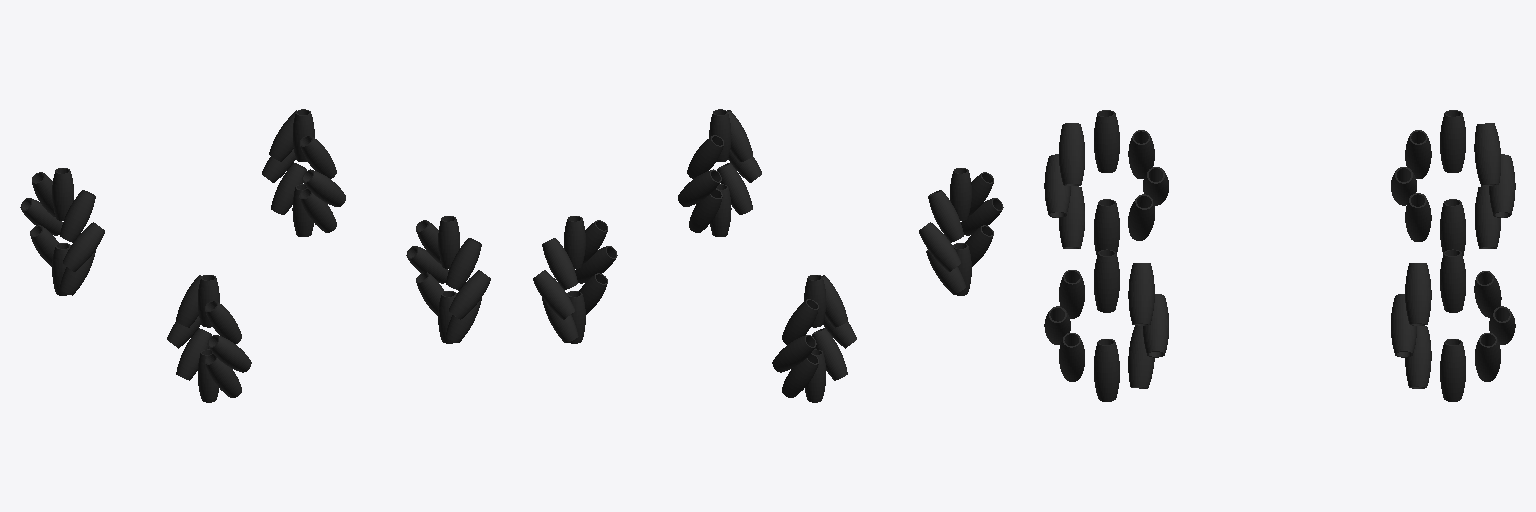
--- Render facts (derived) ---
3 views of the same robot in one strip: view 1: azimuth 30°, elevation 25°; view 2: azimuth 150°, elevation 25°; view 3: azimuth 270°, elevation 25° (orthographic).
Model bloodstone with 53 links and 52 joints (1 revolute, 41 continuous, 10 fixed), rooted at base_link, posed all joints at 0.
Links seen in each view (by area): view 1: front_left_roller_5, rear_right_roller_3, front_left_roller_4, rear_right_roller_4, front_right_roller_1, rear_left_roller_4, front_right_roller_4, rear_right_roller_2, front_left_roller_6, rear_left_roller_7, rear_left_roller_3, front_right_roller_5 (+19 smaller); view 2: rear_left_roller_1, front_right_roller_7, rear_left_roller_0, front_right_roller_0, front_left_roller_3, rear_right_roller_5, rear_left_roller_2, front_left_roller_0, front_right_roller_6, rear_right_roller_0, front_left_roller_7, rear_right_roller_1 (+18 smaller); view 3: front_right_roller_5, rear_right_roller_1, rear_left_roller_3, front_left_roller_7, front_right_roller_6, front_left_roller_6, rear_right_roller_2, rear_left_roller_2, rear_right_roller_6, front_right_roller_2, front_left_roller_2, rear_left_roller_6 (+20 smaller).
Boxes of the visible links, x1,y1,x2,y2 form: front_left_roller_5: (60,190,95,242); rear_right_roller_3: (446,238,481,290); front_left_roller_4: (63,222,104,271); rear_right_roller_4: (449,270,490,319); front_right_roller_1: (271,163,306,214); rear_left_roller_4: (207,335,251,372); front_right_roller_4: (302,169,345,206); rear_right_roller_2: (438,216,459,268); front_left_roller_6: (52,168,73,220); rear_left_roller_7: (176,328,211,380); rear_left_roller_3: (205,300,241,343); front_right_roller_5: (300,135,336,178); rear_left_roller_1: (928,190,963,242); front_right_roller_7: (542,238,577,289); rear_left_roller_0: (919,222,960,271); front_right_roller_0: (533,270,574,319); front_left_roller_3: (812,328,847,380); rear_right_roller_5: (717,163,752,214); rear_left_roller_2: (950,168,971,220); front_left_roller_0: (772,335,816,372); front_right_roller_6: (564,216,585,268); rear_right_roller_0: (678,169,721,206); front_left_roller_7: (782,299,818,344); rear_right_roller_1: (687,135,723,178); front_right_roller_5: (1405,263,1431,325); rear_right_roller_1: (1128,263,1154,325); rear_left_roller_3: (1059,123,1084,185); front_left_roller_7: (1474,123,1500,185); front_right_roller_6: (1440,249,1465,312); front_left_roller_6: (1440,110,1465,172); rear_right_roller_2: (1094,249,1119,312); rear_left_roller_2: (1094,110,1119,172); rear_right_roller_6: (1094,339,1119,401); front_right_roller_2: (1440,339,1465,401); front_left_roller_2: (1440,199,1465,255); rear_left_roller_6: (1094,199,1119,254).
Size in the robot's own frame: 0.2362 by 0.2875 by 0.0977 metres.
Meshes: 15 distinct files referenced, 32 mesh visuals loaded (1 binary STL); not drawn: 20 (reference not matched to a file when rendering).

URDF robot description (bloodstone):
<?xml version="1.0" ?><!-- =================================================================================== --><!-- |    This document was autogenerated by xacro from /workspaces/DevEnv/repos/grr_ros2_robot/install/grr_description/share/grr_description/urdf/robots/bloodstone.urdf.xacro | --><!-- |    EDITING THIS FILE BY HAND IS NOT RECOMMENDED                                 | --><!-- =================================================================================== --><robot name="bloodstone"><!-- Specify some standard inertial calculations https://en.wikipedia.org/wiki/List_of_moments_of_inertia --><!-- These make use of xacro's mathematical functionality --><material name="black"><color rgba="0.0 0.0 0.0 1.0"/></material><material name="blue"><color rgba="0.13725490196078433 0.43137254901960786 0.5882352941176471 1.0"/></material><material name="green"><color rgba="0.0 0.8 0.0 1.0"/></material><material name="grey"><color rgba="0.2 0.2 0.2 1.0"/></material><material name="yellow"><color rgba="1.0 0.8431372549019608 0.0 1"/></material><material name="orange"><color rgba="0.9529411764705882 0.5294117647058824 0.1843137254901961 1"/></material><material name="brown"><color rgba="0.8705882352941177 0.8117647058823529 0.7647058823529411 1.0"/></material><material name="red"><color rgba="0.8 0.0 0.0 1.0"/></material><material name="white"><color rgba="1.0 1.0 1.0 1.0"/></material><material name="silver"><color rgba="0.700 0.700 0.700 1.000"/></material><material name="zed2i_mat"><color rgba="0.25 0.25 0.25 0.99"/></material><ros2_control name="bloodstone" type="system"><hardware><plugin>grr_hardware/IsaacDriveHardware</plugin><param name="example_param_hw_start_duration_sec">3.0</param><param name="example_param_hw_stop_duration_sec">3.0</param></hardware><joint name="front_right_mecanum_joint"><command_interface name="velocity"><param name="min">-1</param><param name="max">1</param></command_interface><state_interface name="position"/><state_interface name="velocity"/></joint><joint name="rear_left_mecanum_joint"><command_interface name="velocity"><param name="min">-1</param><param name="max">1</param></command_interface><state_interface name="position"/><state_interface name="velocity"/></joint><joint name="front_left_mecanum_joint"><command_interface name="velocity"><param name="min">-1</param><param name="max">1</param></command_interface><state_interface name="position"/><state_interface name="velocity"/></joint><joint name="rear_right_mecanum_joint"><command_interface name="velocity"><param name="min">-1</param><param name="max">1</param></command_interface><state_interface name="position"/><state_interface name="velocity"/></joint></ros2_control><link name="base_link"/><link name="chassis_link"><inertial><origin rpy="0 0 0" xyz="0 0 -0.0675"/><mass value="2.45"/><inertia ixx="0.025954687500000004" ixy="0.0" ixz="0.0" iyy="0.0103359375" iyz="0.0" izz="0.028848750000000003"/></inertial><visual><origin rpy="0 0 0" xyz="0 0 0"/><geometry><mesh filename="package://grr_description/meshes/slim_drivebase.stl" scale="0.001 0.001 0.001"/></geometry><material name="blue"/></visual><collision><origin rpy="0 0 0" xyz="0 0 0"/><geometry><box size="0.18 0.33 0.0675"/></geometry></collision></link><gazebo reference="chassis"><material>Gazebo/Blue</material></gazebo><joint name="chassis_joint" type="fixed"><parent link="base_link"/><child link="chassis_link"/><origin xyz="0 0 0"/></joint><link name="front_right_mecanum_link"><inertial><origin rpy="0 1.5707963267948966 0" xyz="0 0 0"/><mass value="1.1360000000000001"/><inertia ixx="0.00042284766390000004" ixy="0.0" ixz="0.0" iyy="0.00042284766390000004" iyz="0.0" izz="0.0005117113278"/></inertial><visual><origin rpy="0 0 0" xyz="0 0 0"/><geometry><mesh filename="package://grr_description/meshes/mecanum_wheel_1.stl" scale="0.001 0.001 0.001"/></geometry><material name="orange"/></visual><collision><origin rpy="0 0 0" xyz="0 0 0"/><geometry><cylinder length="0.042" radius="0.030015"/></geometry></collision></link><joint name="front_right_mecanum_joint" type="continuous"><origin rpy="0 1.5707963267948966 0" xyz="0.10075 0.10568 0"/><parent link="chassis_link"/><child link="front_right_mecanum_link"/><axis xyz="0.0 0.0 -1.0"/></joint><link name="front_right_roller_0"><visual><origin rpy="0 0 0" xyz="0 0 0"/><geometry><mesh filename="package://grr_description/meshes/mecanum_roller.stl" scale="0.001 0.001 0.001"/></geometry><material name="grey"/></visual><!-- <collision>
        <origin xyz="0 0 0" rpy="0 0 0"/>
        <geometry>
          <sphere radius="${roller_middle_radius}"/>
        </geometry>
      </collision>
      <collision>
        <origin xyz="0 0 ${roller_length/5}" rpy="0 0 0"/>
        <geometry>
          <sphere radius="${roller_second_radius}"/>
        </geometry>
      </collision>
      <collision>
        <origin xyz="0 0 -${roller_length/5}" rpy="0 0 0"/>
        <geometry>
          <sphere radius="${roller_second_radius}"/>
        </geometry>
      </collision>
      <collision>
        <origin xyz="0 0 ${2 * roller_length/5}" rpy="0 0 0"/>
        <geometry>
          <sphere radius="${roller_third_radius}"/>
        </geometry>
      </collision>
      <collision>
        <origin xyz="0 0 -${2 * roller_length/5}" rpy="0 0 0"/>
        <geometry>
          <sphere radius="${roller_third_radius}"/>
        </geometry>
      </collision> --><collision><origin rpy="0 0 0" xyz="0 0 0"/><geometry><mesh filename="package://grr_description/meshes/mecanum_roller.stl" scale="0.001 0.001 0.001"/></geometry></collision><inertial><origin rpy="0 0 0" xyz="0 0 0"/><mass value="0.07"/><inertia ixx="9.426025000000001e-06" ixy="0.0" ixz="0.0" iyy="9.426025000000001e-06" iyz="0.0" izz="1.9166000000000004e-06"/></inertial></link><joint name="front_right_roller_0_joint" type="continuous"><origin rpy="0.0 0.7853981633974483 0" xyz="0.0 0.030015 0"/><parent link="front_right_mecanum_link"/><child link="front_right_roller_0"/><axis xyz="0.0 0.0 1.0"/></joint><link name="front_right_roller_1"><visual><origin rpy="0 0 0" xyz="0 0 0"/><geometry><mesh filename="package://grr_description/meshes/mecanum_roller.stl" scale="0.001 0.001 0.001"/></geometry><material name="grey"/></visual><!-- <collision>
        <origin xyz="0 0 0" rpy="0 0 0"/>
        <geometry>
          <sphere radius="${roller_middle_radius}"/>
        </geometry>
      </collision>
      <collision>
        <origin xyz="0 0 ${roller_length/5}" rpy="0 0 0"/>
        <geometry>
          <sphere radius="${roller_second_radius}"/>
        </geometry>
      </collision>
      <collision>
        <origin xyz="0 0 -${roller_length/5}" rpy="0 0 0"/>
        <geometry>
          <sphere radius="${roller_second_radius}"/>
        </geometry>
      </collision>
      <collision>
        <origin xyz="0 0 ${2 * roller_length/5}" rpy="0 0 0"/>
        <geometry>
          <sphere radius="${roller_third_radius}"/>
        </geometry>
      </collision>
      <collision>
        <origin xyz="0 0 -${2 * roller_length/5}" rpy="0 0 0"/>
        <geometry>
          <sphere radius="${roller_third_radius}"/>
        </geometry>
      </collision> --><collision><origin rpy="0 0 0" xyz="0 0 0"/><geometry><mesh filename="package://grr_description/meshes/mecanum_roller.stl" scale="0.001 0.001 0.001"/></geometry></collision><inertial><origin rpy="0 0 0" xyz="0 0 0"/><mass value="0.07"/><inertia ixx="9.426025000000001e-06" ixy="0.0" ixz="0.0" iyy="9.426025000000001e-06" iyz="0.0" izz="1.9166000000000004e-06"/></inertial></link><joint name="front_right_roller_1_joint" type="continuous"><origin rpy="0.5553603672697958 0.5553603672697958 0" xyz="0.02122381003731422 0.021223810037314224 0"/><parent link="front_right_mecanum_link"/><child link="front_right_roller_1"/><axis xyz="0.0 0.0 1.0"/></joint><link name="front_right_roller_2"><visual><origin rpy="0 0 0" xyz="0 0 0"/><geometry><mesh filename="package://grr_description/meshes/mecanum_roller.stl" scale="0.001 0.001 0.001"/></geometry><material name="grey"/></visual><!-- <collision>
        <origin xyz="0 0 0" rpy="0 0 0"/>
        <geometry>
          <sphere radius="${roller_middle_radius}"/>
        </geometry>
      </collision>
      <collision>
        <origin xyz="0 0 ${roller_length/5}" rpy="0 0 0"/>
        <geometry>
          <sphere radius="${roller_second_radius}"/>
        </geometry>
      </collision>
      <collision>
        <origin xyz="0 0 -${roller_length/5}" rpy="0 0 0"/>
        <geometry>
          <sphere radius="${roller_second_radius}"/>
        </geometry>
      </collision>
      <collision>
        <origin xyz="0 0 ${2 * roller_length/5}" rpy="0 0 0"/>
        <geometry>
          <sphere radius="${roller_third_radius}"/>
        </geometry>
      </collision>
      <collision>
        <origin xyz="0 0 -${2 * roller_length/5}" rpy="0 0 0"/>
        <geometry>
          <sphere radius="${roller_third_radius}"/>
        </geometry>
      </collision> --><collision><origin rpy="0 0 0" xyz="0 0 0"/><geometry><mesh filename="package://grr_description/meshes/mecanum_roller.stl" scale="0.001 0.001 0.001"/></geometry></collision><inertial><origin rpy="0 0 0" xyz="0 0 0"/><mass value="0.07"/><inertia ixx="9.426025000000001e-06" ixy="0.0" ixz="0.0" iyy="9.426025000000001e-06" iyz="0.0" izz="1.9166000000000004e-06"/></inertial></link><joint name="front_right_roller_2_joint" type="continuous"><origin rpy="0.7853981633974483 4.8091767343044744e-17 0" xyz="0.030015 1.8378886838203904e-18 0"/><parent link="front_right_mecanum_link"/><child link="front_right_roller_2"/><axis xyz="0.0 0.0 1.0"/></joint><link name="front_right_roller_3"><visual><origin rpy="0 0 0" xyz="0 0 0"/><geometry><mesh filename="package://grr_description/meshes/mecanum_roller.stl" scale="0.001 0.001 0.001"/></geometry><material name="grey"/></visual><!-- <collision>
        <origin xyz="0 0 0" rpy="0 0 0"/>
        <geometry>
          <sphere radius="${roller_middle_radius}"/>
        </geometry>
      </collision>
      <collision>
        <origin xyz="0 0 ${roller_length/5}" rpy="0 0 0"/>
        <geometry>
          <sphere radius="${roller_second_radius}"/>
        </geometry>
      </collision>
      <collision>
        <origin xyz="0 0 -${roller_length/5}" rpy="0 0 0"/>
        <geometry>
          <sphere radius="${roller_second_radius}"/>
        </geometry>
      </collision>
      <collision>
        <origin xyz="0 0 ${2 * roller_length/5}" rpy="0 0 0"/>
        <geometry>
          <sphere radius="${roller_third_radius}"/>
        </geometry>
      </collision>
      <collision>
        <origin xyz="0 0 -${2 * roller_length/5}" rpy="0 0 0"/>
        <geometry>
          <sphere radius="${roller_third_radius}"/>
        </geometry>
      </collision> --><collision><origin rpy="0 0 0" xyz="0 0 0"/><geometry><mesh filename="package://grr_description/meshes/mecanum_roller.stl" scale="0.001 0.001 0.001"/></geometry></collision><inertial><origin rpy="0 0 0" xyz="0 0 0"/><mass value="0.07"/><inertia ixx="9.426025000000001e-06" ixy="0.0" ixz="0.0" iyy="9.426025000000001e-06" iyz="0.0" izz="1.9166000000000004e-06"/></inertial></link><joint name="front_right_roller_3_joint" type="continuous"><origin rpy="0.5553603672697958 -0.5553603672697958 0" xyz="0.021223810037314224 -0.02122381003731422 0"/><parent link="front_right_mecanum_link"/><child link="front_right_roller_3"/><axis xyz="0.0 0.0 1.0"/></joint><link name="front_right_roller_4"><visual><origin rpy="0 0 0" xyz="0 0 0"/><geometry><mesh filename="package://grr_description/meshes/mecanum_roller.stl" scale="0.001 0.001 0.001"/></geometry><material name="grey"/></visual><!-- <collision>
        <origin xyz="0 0 0" rpy="0 0 0"/>
        <geometry>
          <sphere radius="${roller_middle_radius}"/>
        </geometry>
      </collision>
      <collision>
        <origin xyz="0 0 ${roller_length/5}" rpy="0 0 0"/>
        <geometry>
          <sphere radius="${roller_second_radius}"/>
        </geometry>
      </collision>
      <collision>
        <origin xyz="0 0 -${roller_length/5}" rpy="0 0 0"/>
        <geometry>
          <sphere radius="${roller_second_radius}"/>
        </geometry>
      </collision>
      <collision>
        <origin xyz="0 0 ${2 * roller_length/5}" rpy="0 0 0"/>
        <geometry>
          <sphere radius="${roller_third_radius}"/>
        </geometry>
      </collision>
      <collision>
        <origin xyz="0 0 -${2 * roller_length/5}" rpy="0 0 0"/>
        <geometry>
          <sphere radius="${roller_third_radius}"/>
        </geometry>
      </collision> --><collision><origin rpy="0 0 0" xyz="0 0 0"/><geometry><mesh filename="package://grr_description/meshes/mecanum_roller.stl" scale="0.001 0.001 0.001"/></geometry></collision><inertial><origin rpy="0 0 0" xyz="0 0 0"/><mass value="0.07"/><inertia ixx="9.426025000000001e-06" ixy="0.0" ixz="0.0" iyy="9.426025000000001e-06" iyz="0.0" izz="1.9166000000000004e-06"/></inertial></link><joint name="front_right_roller_4_joint" type="continuous"><origin rpy="9.618353468608949e-17 -0.7853981633974483 0" xyz="3.675777367640781e-18 -0.030015 0"/><parent link="front_right_mecanum_link"/><child link="front_right_roller_4"/><axis xyz="0.0 0.0 1.0"/></joint><link name="front_right_roller_5"><visual><origin rpy="0 0 0" xyz="0 0 0"/><geometry><mesh filename="package://grr_description/meshes/mecanum_roller.stl" scale="0.001 0.001 0.001"/></geometry><material name="grey"/></visual><!-- <collision>
        <origin xyz="0 0 0" rpy="0 0 0"/>
        <geometry>
          <sphere radius="${roller_middle_radius}"/>
        </geometry>
      </collision>
      <collision>
        <origin xyz="0 0 ${roller_length/5}" rpy="0 0 0"/>
        <geometry>
          <sphere radius="${roller_second_radius}"/>
        </geometry>
      </collision>
      <collision>
        <origin xyz="0 0 -${roller_length/5}" rpy="0 0 0"/>
        <geometry>
          <sphere radius="${roller_second_radius}"/>
        </geometry>
      </collision>
      <collision>
        <origin xyz="0 0 ${2 * roller_length/5}" rpy="0 0 0"/>
        <geometry>
          <sphere radius="${roller_third_radius}"/>
        </geometry>
      </collision>
      <collision>
        <origin xyz="0 0 -${2 * roller_length/5}" rpy="0 0 0"/>
        <geometry>
          <sphere radius="${roller_third_radius}"/>
        </geometry>
      </collision> --><collision><origin rpy="0 0 0" xyz="0 0 0"/><geometry><mesh filename="package://grr_description/meshes/mecanum_roller.stl" scale="0.001 0.001 0.001"/></geometry></collision><inertial><origin rpy="0 0 0" xyz="0 0 0"/><mass value="0.07"/><inertia ixx="9.426025000000001e-06" ixy="0.0" ixz="0.0" iyy="9.426025000000001e-06" iyz="0.0" izz="1.9166000000000004e-06"/></inertial></link><joint name="front_right_roller_5_joint" type="continuous"><origin rpy="-0.5553603672697958 -0.5553603672697959 0" xyz="-0.02122381003731422 -0.021223810037314227 0"/><parent link="front_right_mecanum_link"/><child link="front_right_roller_5"/><axis xyz="0.0 0.0 1.0"/></joint><link name="front_right_roller_6"><visual><origin rpy="0 0 0" xyz="0 0 0"/><geometry><mesh filename="package://grr_description/meshes/mecanum_roller.stl" scale="0.001 0.001 0.001"/></geometry><material name="grey"/></visual><!-- <collision>
        <origin xyz="0 0 0" rpy="0 0 0"/>
        <geometry>
          <sphere radius="${roller_middle_radius}"/>
        </geometry>
      </collision>
      <collision>
        <origin xyz="0 0 ${roller_length/5}" rpy="0 0 0"/>
        <geometry>
          <sphere radius="${roller_second_radius}"/>
        </geometry>
      </collision>
      <collision>
        <origin xyz="0 0 -${roller_length/5}" rpy="0 0 0"/>
        <geometry>
          <sphere radius="${roller_second_radius}"/>
        </geometry>
      </collision>
      <collision>
        <origin xyz="0 0 ${2 * roller_length/5}" rpy="0 0 0"/>
        <geometry>
          <sphere radius="${roller_third_radius}"/>
        </geometry>
      </collision>
      <collision>
        <origin xyz="0 0 -${2 * roller_length/5}" rpy="0 0 0"/>
        <geometry>
          <sphere radius="${roller_third_radius}"/>
        </geometry>
      </collision> --><collision><origin rpy="0 0 0" xyz="0 0 0"/><geometry><mesh filename="package://grr_description/meshes/mecanum_roller.stl" scale="0.001 0.001 0.001"/></geometry></collision><inertial><origin rpy="0 0 0" xyz="0 0 0"/><mass value="0.07"/><inertia ixx="9.426025000000001e-06" ixy="0.0" ixz="0.0" iyy="9.426025000000001e-06" iyz="0.0" izz="1.9166000000000004e-06"/></inertial></link><joint name="front_right_roller_6_joint" type="continuous"><origin rpy="-0.7853981633974483 -1.4427530202913423e-16 0" xyz="-0.030015 -5.513666051461171e-18 0"/><parent link="front_right_mecanum_link"/><child link="front_right_roller_6"/><axis xyz="0.0 0.0 1.0"/></joint><link name="front_right_roller_7"><visual><origin rpy="0 0 0" xyz="0 0 0"/><geometry><mesh filename="package://grr_description/meshes/mecanum_roller.stl" scale="0.001 0.001 0.001"/></geometry><material name="grey"/></visual><!-- <collision>
        <origin xyz="0 0 0" rpy="0 0 0"/>
        <geometry>
          <sphere radius="${roller_middle_radius}"/>
        </geometry>
      </collision>
      <collision>
        <origin xyz="0 0 ${roller_length/5}" rpy="0 0 0"/>
        <geometry>
          <sphere radius="${roller_second_radius}"/>
        </geometry>
      </collision>
      <collision>
        <origin xyz="0 0 -${roller_length/5}" rpy="0 0 0"/>
        <geometry>
          <sphere radius="${roller_second_radius}"/>
        </geometry>
      </collision>
      <collision>
        <origin xyz="0 0 ${2 * roller_length/5}" rpy="0 0 0"/>
        <geometry>
          <sphere radius="${roller_third_radius}"/>
        </geometry>
      </collision>
      <collision>
        <origin xyz="0 0 -${2 * roller_length/5}" rpy="0 0 0"/>
        <geometry>
          <sphere radius="${roller_third_radius}"/>
        </geometry>
      </collision> --><collision><origin rpy="0 0 0" xyz="0 0 0"/><geometry><mesh filename="package://grr_description/meshes/mecanum_roller.stl" scale="0.001 0.001 0.001"/></geometry></collision><inertial><origin rpy="0 0 0" xyz="0 0 0"/><mass value="0.07"/><inertia ixx="9.426025000000001e-06" ixy="0.0" ixz="0.0" iyy="9.426025000000001e-06" iyz="0.0" izz="1.9166000000000004e-06"/></inertial></link><joint name="front_right_roller_7_joint" type="continuous"><origin rpy="-0.5234033886657797 0.6093783076190201 0.09416051314509408" xyz="-0.021223810037314227 0.02122381003731422 0"/><parent link="front_right_mecanum_link"/><child link="front_right_roller_7"/><axis xyz="0.0 0.0 1.0"/></joint><link name="rear_left_mecanum_link"><inertial><origin rpy="0 1.5707963267948966 0" xyz="0 0 0"/><mass value="1.1360000000000001"/><inertia ixx="0.00042284766390000004" ixy="0.0" ixz="0.0" iyy="0.00042284766390000004" iyz="0.0" izz="0.0005117113278"/></inertial><visual><origin rpy="0 0 0" xyz="0 0 0"/><geometry><mesh filename="package://grr_description/meshes/mecanum_wheel_1.stl" scale="0.001 0.001 0.001"/></geometry><material name="orange"/></visual><collision><origin rpy="0 0 0" xyz="0 0 0"/><geometry><cylinder length="0.042" radius="0.030015"/></geometry></collision></link><joint name="rear_left_mecanum_joint" type="continuous"><origin rpy="0 -1.5707963267948966 0" xyz="-0.10075 -0.10568 0"/><parent link="chassis_link"/><child link="rear_left_mecanum_link"/><axis xyz="0.0 0.0 1.0"/></joint><link name="rear_left_roller_0"><visual><origin rpy="0 0 0" xyz="0 0 0"/><geometry><mesh filename="package://grr_description/meshes/mecanum_roller.stl" scale="0.001 0.001 0.001"/></geometry><material name="grey"/></visual><!-- <collision>
        <origin xyz="0 0 0" rpy="0 0 0"/>
        <geometry>
          <sphere radius="${roller_middle_radius}"/>
        </geometry>
      </collision>
      <collision>
        <origin xyz="0 0 ${roller_length/5}" rpy="0 0 0"/>
        <geometry>
          <sphere radius="${roller_second_radius}"/>
        </geometry>
      </collision>
      <collision>
        <origin xyz="0 0 -${roller_length/5}" rpy="0 0 0"/>
        <geometry>
          <sphere radius="${roller_second_radius}"/>
        </geometry>
      </collision>
      <collision>
        <origin xyz="0 0 ${2 * roller_length/5}" rpy="0 0 0"/>
        <geometry>
          <sphere radius="${roller_third_radius}"/>
        </geometry>
      </collision>
      <collision>
        <origin xyz="0 0 -${2 * roller_length/5}" rpy="0 0 0"/>
        <geometry>
          <sphere radius="${roller_third_radius}"/>
        </geometry>
      </collision> --><collision><origin rpy="0 0 0" xyz="0 0 0"/><geometry><mesh filename="package://grr_description/meshes/mecanum_roller.stl" scale="0.001 0.001 0.001"/></geometry></collision><inertial><origin rpy="0 0 0" xyz="0 0 0"/><mass value="0.07"/><inertia ixx="9.426025000000001e-06" ixy="0.0" ixz="0.0" iyy="9.426025000000001e-06" iyz="0.0" izz="1.9166000000000004e-06"/></inertial></link><joint name="rear_left_roller_0_joint" type="continuous"><origin rpy="0.0 0.7853981633974483 0" xyz="0.0 0.030015 0"/><parent link="rear_left_mecanum_link"/><child link="rear_left_roller_0"/><axis xyz="0.0 0.0 1.0"/></joint><link name="rear_left_roller_1"><visual><origin rpy="0 0 0" xyz="0 0 0"/><geometry><mesh filename="package://grr_description/meshes/mecanum_roller.stl" scale="0.001 0.001 0.001"/></geometry><material name="grey"/></visual><!-- <collision>
        <origin xyz="0 0 0" rpy="0 0 0"/>
        <geometry>
          <sphere radius="${roller_middle_radius}"/>
        </geometry>
      </collision>
      <collision>
        <origin xyz="0 0 ${roller_length/5}" rpy="0 0 0"/>
        <geometry>
          <sphere radius="${roller_second_radius}"/>
        </geometry>
      </collision>
      <collision>
        <origin xyz="0 0 -${roller_length/5}" rpy="0 0 0"/>
        <geometry>
          <sphere radius="${roller_second_radius}"/>
        </geometry>
      </collision>
      <collision>
        <origin xyz="0 0 ${2 * roller_length/5}" rpy="0 0 0"/>
        <geometry>
          <sphere radius="${roller_third_radius}"/>
        </geometry>
      </collision>
      <collision>
        <origin xyz="0 0 -${2 * roller_length/5}" rpy="0 0 0"/>
        <geometry>
          <sphere radius="${roller_third_radius}"/>
        </geometry>
      </collision> --><collision><origin rpy="0 0 0" xyz="0 0 0"/><geometry><mesh filename="package://grr_description/meshes/mecanum_roller.stl" scale="0.001 0.001 0.001"/></geometry></collision><inertial><origin rpy="0 0 0" xyz="0 0 0"/><mass value="0.07"/><inertia ixx="9.426025000000001e-06" ixy="0.0" ixz="0.0" iyy="9.426025000000001e-06" iyz="0.0" izz="1.9166000000000004e-06"/></inertial></link><joint name="rear_left_roller_1_joint" type="continuous"><origin rpy="0.5553603672697958 0.5553603672697958 0" xyz="0.02122381003731422 0.021223810037314224 0"/><parent link="rear_left_mecanum_link"/><child link="rear_left_roller_1"/><axis xyz="0.0 0.0 1.0"/></joint><link name="rear_left_roller_2"><visual><origin rpy="0 0 0" xyz="0 0 0"/><geometry><mesh filename="package://grr_description/meshes/mecanum_roller.stl" scale="0.001 0.001 0.001"/></geometry><material name="grey"/></visual><!-- <collision>
        <origin xyz="0 0 0" rpy="0 0 0"/>
        <geometry>
          <sphere radius="${roller_middle_radius}"/>
        </geometry>
      </collision>
      <collision>
        <origin xyz="0 0 ${roller_length/5}" rpy="0 0 0"/>
        <geometry>
          <sphere radius="${roller_second_radius}"/>
        </geometry>
      </collision>
      <collision>
        <origin xyz="0 0 -${roller_length/5}" rpy="0 0 0"/>
        <geometry>
          <sphere radius="${roller_second_radius}"/>
        </geometry>
      </collision>
      <collision>
        <origin xyz="0 0 ${2 * roller_length/5}" rpy="0 0 0"/>
        <geometry>
          <sphere radius="${roller_third_radius}"/>
        </geometry>
      </collision>
      <collision>
        <origin xyz="0 0 -${2 * roller_length/5}" rpy="0 0 0"/>
        <geometry>
          <sphere radius="${roller_third_radius}"/>
        </geometry>
      </collision> --><collision><origin rpy="0 0 0" xyz="0 0 0"/><geometry><mesh filename="package://grr_description/meshes/mecanum_roller.stl" scale="0.001 0.001 0.001"/></geometry></collision><inertial><origin rpy="0 0 0" xyz="0 0 0"/><mass value="0.07"/><inertia ixx="9.426025000000001e-06" ixy="0.0" ixz="0.0" iyy="9.426025000000001e-06" iyz="0.0" izz="1.9166000000000004e-06"/></inertial></link><joint name="rear_left_roller_2_joint" type="continuous"><origin rpy="0.7853981633974483 4.8091767343044744e-17 0" xyz="0.030015 1.8378886838203904e-18 0"/><parent link="rear_left_mecanum_link"/><child link="rear_left_roller_2"/><axis xyz="0.0 0.0 1.0"/></joint><link name="rear_left_roller_3"><visual><origin rpy="0 0 0" xyz="0 0 0"/><geometry><mesh filename="package://grr_description/meshes/mecanum_roller.stl" scale="0.001 0.001 0.001"/></geometry><material name="grey"/></visual><!-- <collision>
        <origin xyz="0 0 0" rpy="0 0 0"/>
        <geometry>
          <sphere radius="${roller_middle_radius}"/>
        </geometry>
      </collision>
      <collision>
        <origin xyz="0 0 ${roller_length/5}" rpy="0 0 0"/>
        <geometry>
          <sphere radius="${roller_second_radius}"/>
        </geometry>
      </collision>
      <collision>
        <origin xyz="0 0 -${roller_length/5}" rpy="0 0 0"/>
        <geometry>
          <sphere radius="${roller_second_radius}"/>
        </geometry>
      </collision>
      <collision>
        <origin xyz="0 0 ${2 * roller_length/5}" rpy="0 0 0"/>
        <geometry>
          <sphere radius="${roller_third_radius}"/>
        </geometry>
      </collision>
      <collision>
        <origin xyz="0 0 -${2 * roller_length/5}" rpy="0 0 0"/>
        <geometry>
          <sphere radius="${roller_third_radius}"/>
        </geometry>
      </collision> --><collision><origin rpy="0 0 0" xyz="0 0 0"/><geometry><mesh filename="package://grr_description/meshes/mecanum_roller.stl" scale="0.001 0.001 0.001"/></geometry></collision><inertial><origin rpy="0 0 0" xyz="0 0 0"/><mass value="0.07"/><inertia ixx="9.426025000000001e-06" ixy="0.0" ixz="0.0" iyy="9.426025000000001e-06" iyz="0.0" izz="1.9166000000000004e-06"/></inertial></link><joint name="rear_left_roller_3_joint" type="continuous"><origin rpy="0.5553603672697958 -0.5553603672697958 0" xyz="0.021223810037314224 -0.02122381003731422 0"/><parent link="rear_left_mecanum_link"/><child link="rear_left_roller_3"/><axis xyz="0.0 0.0 1.0"/></joint><link name="rear_left_roller_4"><visual><origin rpy="0 0 0" xyz="0 0 0"/><geometry><mesh filename="package://grr_description/meshes/mecanum_roller.stl" scale="0.001 0.001 0.001"/></geometry><material name="grey"/></visual><!-- <collision>
        <origin xyz="0 0 0" rpy="0 0 0"/>
        <geometry>
          <sphere radius="${roller_middle_radius}"/>
        </geometry>
      </collision>
      <collision>
        <origin xyz="0 0 ${roller_length/5}" rpy="0 0 0"/>
        <geometry>
          <sphere radius="${roller_second_radius}"/>
        </geometry>
      </collision>
      <collision>
        <origin xyz="0 0 -${roller_length/5}" rpy="0 0 0"/>
        <geometry>
          <sphere radius="${roller_second_radius}"/>
        </geometry>
      </collision>
      <collision>
        <origin xyz="0 0 ${2 * roller_length/5}" rpy="0 0 0"/>
        <geometry>
          <sphere radius="${roller_third_radius}"/>
        </geometry>
      </collision>
      <collision>
        <origin xyz="0 0 -${2 * roller_length/5}" rpy="0 0 0"/>
        <geometry>
          <sphere radius="${roller_third_radius}"/>
        </geometry>
      </collision> --><collision><origin rpy="0 0 0" xyz="0 0 0"/><geometry><mesh filename="package://grr_description/meshes/mecanum_roller.stl" scale="0.001 0.001 0.001"/></geometry></collision><inertial><origin rpy="0 0 0" xyz="0 0 0"/><mass value="0.07"/><inertia ixx="9.426025000000001e-06" ixy="0.0" ixz="0.0" iyy="9.426025000000001e-06" iyz="0.0" izz="1.9166000000000004e-06"/></inertial></link><joint name="rear_left_roller_4_joint" type="continuous"><origin rpy="9.618353468608949e-17 -0.7853981633974483 0" xyz="3.675777367640781e-18 -0.030015 0"/><parent link="rear_left_mecanum_link"/><child link="rear_left_roller_4"/><axis xyz="0.0 0.0 1.0"/></joint><link name="rear_left_roller_5"><visual><origin rpy="0 0 0" xyz="0 0 0"/><geometry><mesh filename="package://grr_description/meshes/mecanum_roller.stl" scale="0.001 0.001 0.001"/></geometry><material name="grey"/></visual><!-- <collision>
        <origin xyz="0 0 0" rpy="0 0 0"/>
        <geometry>
          <sphere radius="${roller_middle_radius}"/>
        </geometry>
      </collision>
      <collision>
        <origin xyz="0 0 ${roller_length/5}" rpy="0 0 0"/>
        <geometry>
          <sphere radius="${roller_second_radius}"/>
        </geometry>
      </collision>
      <collision>
        <origin xyz="0 0 -${roller_length/5}" rpy="0 0 0"/>
        <geometry>
          <sphere radius="${roller_second_radius}"/>
        </geometry>
      </collision>
      <collision>
        <origin xyz="0 0 ${2 * roller_length/5}" rpy="0 0 0"/>
        <geometry>
          <sphere radius="${roller_third_radius}"/>
        </geometry>
      </collision>
      <collision>
        <origin xyz="0 0 -${2 * roller_length/5}" rpy="0 0 0"/>
        <geometry>
          <sphere radius="${roller_third_radius}"/>
        </geometry>
      </collision> --><collision><origin rpy="0 0 0" xyz="0 0 0"/><geometry><mesh filename="package://grr_description/meshes/mecanum_roller.stl" scale="0.001 0.001 0.001"/></geometry></collision><inertial><origin rpy="0 0 0" xyz="0 0 0"/><mass value="0.07"/><inertia ixx="9.426025000000001e-06" ixy="0.0" ixz="0.0" iyy="9.426025000000001e-06" iyz="0.0" izz="1.9166000000000004e-06"/></inertial></link><joint name="rear_left_roller_5_joint" type="continuous"><origin rpy="-0.5553603672697958 -0.5553603672697959 0" xyz="-0.02122381003731422 -0.021223810037314227 0"/><parent link="rear_left_mecanum_link"/><child link="rear_left_roller_5"/><axis xyz="0.0 0.0 1.0"/></joint><link name="rear_left_roller_6"><visual><origin rpy="0 0 0" xyz="0 0 0"/><geometry><mesh filename="package://grr_description/meshes/mecanum_roller.stl" scale="0.001 0.001 0.001"/></geometry><material name="grey"/></visual><!-- <collision>
        <origin xyz="0 0 0" rpy="0 0 0"/>
        <geometry>
          <sphere radius="${roller_middle_radius}"/>
        </geometry>
      </collision>
      <collision>
        <origin xyz="0 0 ${roller_length/5}" rpy="0 0 0"/>
        <geometry>
          <sphere radius="${roller_second_radius}"/>
        </geometry>
      </collision>
      <collision>
        <origin xyz="0 0 -${roller_length/5}" rpy="0 0 0"/>
        <geometry>
          <sphere radius="${roller_second_radius}"/>
        </geometry>
      </collision>
      <collision>
        <origin xyz="0 0 ${2 * roller_length/5}" rpy="0 0 0"/>
        <geometry>
          <sphere radius="${roller_third_radius}"/>
        </geometry>
      </collision>
      <collision>
        <origin xyz="0 0 -${2 * roller_length/5}" rpy="0 0 0"/>
        <geometry>
          <sphere radius="${roller_third_radius}"/>
        </geometry>
      </collision> --><collision><origin rpy="0 0 0" xyz="0 0 0"/><geometry><mesh filename="package://grr_description/meshes/mecanum_roller.stl" scale="0.001 0.001 0.001"/></geometry></collision><inertial><origin rpy="0 0 0" xyz="0 0 0"/><mass value="0.07"/><inertia ixx="9.426025000000001e-06" ixy="0.0" ixz="0.0" iyy="9.426025000000001e-06" iyz="0.0" izz="1.9166000000000004e-06"/></inertial></link><joint name="rear_left_roller_6_joint" type="continuous"><origin rpy="-0.7853981633974483 -1.4427530202913423e-16 0" xyz="-0.030015 -5.513666051461171e-18 0"/><parent link="rear_left_mecanum_link"/><child link="rear_left_roller_6"/><axis xyz="0.0 0.0 1.0"/></joint><link name="rear_left_roller_7"><visual><origin rpy="0 0 0" xyz="0 0 0"/><geometry><mesh filename="package://grr_description/meshes/mecanum_roller.stl" scale="0.001 0.001 0.001"/></geometry><material name="grey"/></visual><!-- <collision>
        <origin xyz="0 0 0" rpy="0 0 0"/>
        <geometry>
          <sphere radius="${roller_middle_radius}"/>
        </geometry>
      </collision>
      <collision>
        <origin xyz="0 0 ${roller_length/5}" rpy="0 0 0"/>
        <geometry>
          <sphere radius="${roller_second_radius}"/>
        </geometry>
      </collision>
      <collision>
        <origin xyz="0 0 -${roller_length/5}" rpy="0 0 0"/>
        <geometry>
          <sphere radius="${roller_second_radius}"/>
        </geometry>
      </collision>
      <collision>
        <origin xyz="0 0 ${2 * roller_length/5}" rpy="0 0 0"/>
        <geometry>
          <sphere radius="${roller_third_radius}"/>
        </geometry>
      </collision>
      <collision>
        <origin xyz="0 0 -${2 * roller_length/5}" rpy="0 0 0"/>
        <geometry>
          <sphere radius="${roller_third_radius}"/>
        </geometry>
      </collision> --><collision><origin rpy="0 0 0" xyz="0 0 0"/><geometry><mesh filename="package://grr_description/meshes/mecanum_roller.stl" scale="0.001 0.001 0.001"/></geometry></collision><inertial><origin rpy="0 0 0" xyz="0 0 0"/><mass value="0.07"/><inertia ixx="9.426025000000001e-06" ixy="0.0" ixz="0.0" iyy="9.426025000000001e-06" iyz="0.0" izz="1.9166000000000004e-06"/></inertial></link><joint name="rear_left_roller_7_joint" type="continuous"><origin rpy="-0.5234033886657797 0.6093783076190201 0.09416051314509408" xyz="-0.021223810037314227 0.02122381003731422 0"/><parent link="rear_left_mecanum_link"/><child link="rear_left_roller_7"/><axis xyz="0.0 0.0 1.0"/></joint><link name="front_left_mecanum_link"><inertial><origin rpy="0 1.5707963267948966 0" xyz="0 0 0"/><mass value="1.1360000000000001"/><inertia ixx="0.00042284766390000004" ixy="0.0" ixz="0.0" iyy="0.00042284766390000004" iyz="0.0" izz="0.0005117113278"/></inertial><visual><origin rpy="0 0 0" xyz="0 0 0"/><geometry><mesh filename="package://grr_description/meshes/mecanum_wheel_2.stl" scale="0.001 0.001 0.001"/></geometry><material name="orange"/></visual><collision><origin rpy="0 0 0" xyz="0 0 0"/><geometry><cylinder length="0.042" radius="0.030015"/></geometry></collision></link><joint name="front_left_mecanum_joint" type="continuous"><origin rpy="0 1.5707963267948966 0" xyz="-0.10075 0.10568 0"/><parent link="chassis_link"/><child link="front_left_mecanum_link"/><axis xyz="0.0 0.0 -1.0"/></joint><link name="front_left_roller_0"><visual><origin rpy="0 0 0" xyz="0 0 0"/><geometry><mesh filename="package://grr_description/meshes/mecanum_roller.stl" scale="0.001 0.001 0.001"/></geometry><material name="grey"/></visual><!-- <collision>
        <origin xyz="0 0 0" rpy="0 0 0"/>
        <geometry>
          <sphere radius="${roller_middle_radius}"/>
        </geometry>
      </collision>
      <collision>
        <origin xyz="0 0 ${roller_length/5}" rpy="0 0 0"/>
        <geometry>
          <sphere radius="${roller_second_radius}"/>
        </geometry>
      </collision>
      <collision>
        <origin xyz="0 0 -${roller_length/5}" rpy="0 0 0"/>
        <geometry>
          <sphere radius="${roller_second_radius}"/>
        </geometry>
      </collision>
      <collision>
        <origin xyz="0 0 ${2 * roller_length/5}" rpy="0 0 0"/>
        <geometry>
          <sphere radius="${roller_third_radius}"/>
        </geometry>
      </collision>
      <collision>
        <origin xyz="0 0 -${2 * roller_length/5}" rpy="0 0 0"/>
        <geometry>
          <sphere radius="${roller_third_radius}"/>
        </geometry>
      </collision> --><collision><origin rpy="0 0 0" xyz="0 0 0"/><geometry><mesh filename="package://grr_description/meshes/mecanum_roller.stl" scale="0.001 0.001 0.001"/></geometry></collision><inertial><origin rpy="0 0 0" xyz="0 0 0"/><mass value="0.07"/><inertia ixx="9.426025000000001e-06" ixy="0.0" ixz="0.0" iyy="9.426025000000001e-06" iyz="0.0" izz="1.9166000000000004e-06"/></inertial></link><joint name="front_left_roller_0_joint" type="continuous"><origin rpy="-0.0 -0.7853981633974483 0" xyz="0.0 0.030015 0"/><parent link="front_left_mecanum_link"/><child link="front_left_roller_0"/><axis xyz="0.0 0.0 1.0"/></joint><link name="front_left_roller_1"><visual><origin rpy="0 0 0" xyz="0 0 0"/><geometry><mesh filename="package://grr_description/meshes/mecanum_roller.stl" scale="0.001 0.001 0.001"/></geometry><material name="grey"/></visual><!-- <collision>
        <origin xyz="0 0 0" rpy="0 0 0"/>
        <geometry>
          <sphere radius="${roller_middle_radius}"/>
        </geometry>
      </collision>
      <collision>
        <origin xyz="0 0 ${roller_length/5}" rpy="0 0 0"/>
        <geometry>
          <sphere radius="${roller_second_radius}"/>
        </geometry>
      </collision>
      <collision>
        <origin xyz="0 0 -${roller_length/5}" rpy="0 0 0"/>
        <geometry>
          <sphere radius="${roller_second_radius}"/>
        </geometry>
      </collision>
      <collision>
        <origin xyz="0 0 ${2 * roller_length/5}" rpy="0 0 0"/>
        <geometry>
          <sphere radius="${roller_third_radius}"/>
        </geometry>
      </collision>
      <collision>
        <origin xyz="0 0 -${2 * roller_length/5}" rpy="0 0 0"/>
        <geometry>
          <sphere radius="${roller_third_radius}"/>
        </geometry>
      </collision> --><collision><origin rpy="0 0 0" xyz="0 0 0"/><geometry><mesh filename="package://grr_description/meshes/mecanum_roller.stl" scale="0.001 0.001 0.001"/></geometry></collision><inertial><origin rpy="0 0 0" xyz="0 0 0"/><mass value="0.07"/><inertia ixx="9.426025000000001e-06" ixy="0.0" ixz="0.0" iyy="9.426025000000001e-06" iyz="0.0" izz="1.9166000000000004e-06"/></inertial></link><joint name="front_left_roller_1_joint" type="continuous"><origin rpy="-0.5553603672697958 -0.5553603672697958 0" xyz="0.02122381003731422 0.021223810037314224 0"/><parent link="front_left_mecanum_link"/><child link="front_left_roller_1"/><axis xyz="0.0 0.0 1.0"/></joint><link name="front_left_roller_2"><visual><origin rpy="0 0 0" xyz="0 0 0"/><geometry><mesh filename="package://grr_description/meshes/mecanum_roller.stl" scale="0.001 0.001 0.001"/></geometry><material name="grey"/></visual><!-- <collision>
        <origin xyz="0 0 0" rpy="0 0 0"/>
        <geometry>
          <sphere radius="${roller_middle_radius}"/>
        </geometry>
      </collision>
      <collision>
        <origin xyz="0 0 ${roller_length/5}" rpy="0 0 0"/>
        <geometry>
          <sphere radius="${roller_second_radius}"/>
        </geometry>
      </collision>
      <collision>
        <origin xyz="0 0 -${roller_length/5}" rpy="0 0 0"/>
        <geometry>
          <sphere radius="${roller_second_radius}"/>
        </geometry>
      </collision>
      <collision>
        <origin xyz="0 0 ${2 * roller_length/5}" rpy="0 0 0"/>
        <geometry>
          <sphere radius="${roller_third_radius}"/>
        </geometry>
      </collision>
      <collision>
        <origin xyz="0 0 -${2 * roller_length/5}" rpy="0 0 0"/>
        <geometry>
          <sphere radius="${roller_third_radius}"/>
        </geometry>
      </collision> --><collision><origin rpy="0 0 0" xyz="0 0 0"/><geometry><mesh filename="package://grr_description/meshes/mecanum_roller.stl" scale="0.001 0.001 0.001"/></geometry></collision><inertial><origin rpy="0 0 0" xyz="0 0 0"/><mass value="0.07"/><inertia ixx="9.426025000000001e-06" ixy="0.0" ixz="0.0" iyy="9.426025000000001e-06" iyz="0.0" izz="1.9166000000000004e-06"/></inertial></link><joint name="front_left_roller_2_joint" type="continuous"><origin rpy="-0.7853981633974483 -4.8091767343044744e-17 0" xyz="0.030015 1.8378886838203904e-18 0"/><parent link="front_left_mecanum_link"/><child link="front_left_roller_2"/><axis xyz="0.0 0.0 1.0"/></joint><link name="front_left_roller_3"><visual><origin rpy="0 0 0" xyz="0 0 0"/><geometry><mesh filename="package://grr_description/meshes/mecanum_roller.stl" scale="0.001 0.001 0.001"/></geometry><material name="grey"/></visual><!-- <collision>
        <origin xyz="0 0 0" rpy="0 0 0"/>
        <geometry>
          <sphere radius="${roller_middle_radius}"/>
        </geometry>
      </collision>
      <collision>
        <origin xyz="0 0 ${roller_length/5}" rpy="0 0 0"/>
        <geometry>
          <sphere radius="${roller_second_radius}"/>
        </geometry>
      </collision>
      <collision>
        <origin xyz="0 0 -${roller_length/5}" rpy="0 0 0"/>
        <geometry>
          <sphere radius="${roller_second_radius}"/>
        </geometry>
      </collision>
      <collision>
        <origin xyz="0 0 ${2 * roller_length/5}" rpy="0 0 0"/>
        <geometry>
          <sphere radius="${roller_third_radius}"/>
        </geometry>
      </collision>
      <collision>
        <origin xyz="0 0 -${2 * roller_length/5}" rpy="0 0 0"/>
        <geometry>
          <sphere radius="${roller_third_radius}"/>
        </geometry>
      </collision> --><collision><origin rpy="0 0 0" xyz="0 0 0"/><geometry><mesh filename="package://grr_description/meshes/mecanum_roller.stl" scale="0.001 0.001 0.001"/></geometry></collision><inertial><origin rpy="0 0 0" xyz="0 0 0"/><mass value="0.07"/><inertia ixx="9.426025000000001e-06" ixy="0.0" ixz="0.0" iyy="9.426025000000001e-06" iyz="0.0" izz="1.9166000000000004e-06"/></inertial></link><joint name="front_left_roller_3_joint" type="continuous"><origin rpy="-0.5553603672697958 0.5553603672697958 0" xyz="0.021223810037314224 -0.02122381003731422 0"/><parent link="front_left_mecanum_link"/><child link="front_left_roller_3"/><axis xyz="0.0 0.0 1.0"/></joint><link name="front_left_roller_4"><visual><origin rpy="0 0 0" xyz="0 0 0"/><geometry><mesh filename="package://grr_description/meshes/mecanum_roller.stl" scale="0.001 0.001 0.001"/></geometry><material name="grey"/></visual><!-- <collision>
        <origin xyz="0 0 0" rpy="0 0 0"/>
        <geometry>
          <sphere radius="${roller_middle_radius}"/>
        </geometry>
      </collision>
      <collision>
        <origin xyz="0 0 ${roller_length/5}" rpy="0 0 0"/>
        <geometry>
          <sphere radius="${roller_second_radius}"/>
        </geometry>
      </collision>
      <collision>
        <origin xyz="0 0 -${roller_length/5}" rpy="0 0 0"/>
        <geometry>
          <sphere radius="${roller_second_radius}"/>
        </geometry>
      </collision>
      <collision>
        <origin xyz="0 0 ${2 * roller_length/5}" rpy="0 0 0"/>
        <geometry>
          <sphere radius="${roller_third_radius}"/>
        </geometry>
      </collision>
      <collision>
        <origin xyz="0 0 -${2 * roller_length/5}" rpy="0 0 0"/>
        <geometry>
          <sphere radius="${roller_third_radius}"/>
        </geometry>
      </collision> --><collision><origin rpy="0 0 0" xyz="0 0 0"/><geometry><mesh filename="package://grr_description/meshes/mecanum_roller.stl" scale="0.001 0.001 0.001"/></geometry></collision><inertial><origin rpy="0 0 0" xyz="0 0 0"/><mass value="0.07"/><inertia ixx="9.426025000000001e-06" ixy="0.0" ixz="0.0" iyy="9.426025000000001e-06" iyz="0.0" izz="1.9166000000000004e-06"/></inertial></link><joint name="front_left_roller_4_joint" type="continuous"><origin rpy="-9.618353468608949e-17 0.7853981633974483 0" xyz="3.675777367640781e-18 -0.030015 0"/><parent link="front_left_mecanum_link"/><child link="front_left_roller_4"/><axis xyz="0.0 0.0 1.0"/></joint><link name="front_left_roller_5"><visual><origin rpy="0 0 0" xyz="0 0 0"/><geometry><mesh filename="package://grr_description/meshes/mecanum_roller.stl" scale="0.001 0.001 0.001"/></geometry><material name="grey"/></visual><!-- <collision>
        <origin xyz="0 0 0" rpy="0 0 0"/>
        <geometry>
          <sphere radius="${roller_middle_radius}"/>
        </geometry>
      </collision>
      <collision>
        <origin xyz="0 0 ${roller_length/5}" rpy="0 0 0"/>
        <geometry>
          <sphere radius="${roller_second_radius}"/>
        </geometry>
      </collision>
      <collision>
        <origin xyz="0 0 -${roller_length/5}" rpy="0 0 0"/>
        <geometry>
          <sphere radius="${roller_second_radius}"/>
        </geometry>
      </collision>
      <collision>
        <origin xyz="0 0 ${2 * roller_length/5}" rpy="0 0 0"/>
        <geometry>
          <sphere radius="${roller_third_radius}"/>
        </geometry>
      </collision>
      <collision>
        <origin xyz="0 0 -${2 * roller_length/5}" rpy="0 0 0"/>
        <geometry>
          <sphere radius="${roller_third_radius}"/>
        </geometry>
      </collision> --><collision><origin rpy="0 0 0" xyz="0 0 0"/><geometry><mesh filename="package://grr_description/meshes/mecanum_roller.stl" scale="0.001 0.001 0.001"/></geometry></collision><inertial><origin rpy="0 0 0" xyz="0 0 0"/><mass value="0.07"/><inertia ixx="9.426025000000001e-06" ixy="0.0" ixz="0.0" iyy="9.426025000000001e-06" iyz="0.0" izz="1.9166000000000004e-06"/></inertial></link><joint name="front_left_roller_5_joint" type="continuous"><origin rpy="0.5553603672697958 0.5553603672697959 0" xyz="-0.02122381003731422 -0.021223810037314227 0"/><parent link="front_left_mecanum_link"/><child link="front_left_roller_5"/><axis xyz="0.0 0.0 1.0"/></joint><link name="front_left_roller_6"><visual><origin rpy="0 0 0" xyz="0 0 0"/><geometry><mesh filename="package://grr_description/meshes/mecanum_roller.stl" scale="0.001 0.001 0.001"/></geometry><material name="grey"/></visual><!-- <collision>
        <origin xyz="0 0 0" rpy="0 0 0"/>
        <geometry>
          <sphere radius="${roller_middle_radius}"/>
        </geometry>
      </collision>
      <collision>
        <origin xyz="0 0 ${roller_length/5}" rpy="0 0 0"/>
        <geometry>
          <sphere radius="${roller_second_radius}"/>
        </geometry>
      </collision>
      <collision>
        <origin xyz="0 0 -${roller_length/5}" rpy="0 0 0"/>
        <geometry>
          <sphere radius="${roller_second_radius}"/>
        </geometry>
      </collision>
      <collision>
        <origin xyz="0 0 ${2 * roller_length/5}" rpy="0 0 0"/>
        <geometry>
          <sphere radius="${roller_third_radius}"/>
        </geometry>
      </collision>
      <collision>
        <origin xyz="0 0 -${2 * roller_length/5}" rpy="0 0 0"/>
        <geometry>
          <sphere radius="${roller_third_radius}"/>
        </geometry>
      </collision> --><collision><origin rpy="0 0 0" xyz="0 0 0"/><geometry><mesh filename="package://grr_description/meshes/mecanum_roller.stl" scale="0.001 0.001 0.001"/></geometry></collision><inertial><origin rpy="0 0 0" xyz="0 0 0"/><mass value="0.07"/><inertia ixx="9.426025000000001e-06" ixy="0.0" ixz="0.0" iyy="9.426025000000001e-06" iyz="0.0" izz="1.9166000000000004e-06"/></inertial></link><joint name="front_left_roller_6_joint" type="continuous"><origin rpy="0.7853981633974483 1.4427530202913423e-16 0" xyz="-0.030015 -5.513666051461171e-18 0"/><parent link="front_left_mecanum_link"/><child link="front_left_roller_6"/><axis xyz="0.0 0.0 1.0"/></joint><link name="front_left_roller_7"><visual><origin rpy="0 0 0" xyz="0 0 0"/><geometry><mesh filename="package://grr_description/meshes/mecanum_roller.stl" scale="0.001 0.001 0.001"/></geometry><material name="grey"/></visual><!-- <collision>
        <origin xyz="0 0 0" rpy="0 0 0"/>
        <geometry>
          <sphere radius="${roller_middle_radius}"/>
        </geometry>
      </collision>
      <collision>
        <origin xyz="0 0 ${roller_length/5}" rpy="0 0 0"/>
        <geometry>
          <sphere radius="${roller_second_radius}"/>
        </geometry>
      </collision>
      <collision>
        <origin xyz="0 0 -${roller_length/5}" rpy="0 0 0"/>
        <geometry>
          <sphere radius="${roller_second_radius}"/>
        </geometry>
      </collision>
      <collision>
        <origin xyz="0 0 ${2 * roller_length/5}" rpy="0 0 0"/>
        <geometry>
          <sphere radius="${roller_third_radius}"/>
        </geometry>
      </collision>
      <collision>
        <origin xyz="0 0 -${2 * roller_length/5}" rpy="0 0 0"/>
        <geometry>
          <sphere radius="${roller_third_radius}"/>
        </geometry>
      </collision> --><collision><origin rpy="0 0 0" xyz="0 0 0"/><geometry><mesh filename="package://grr_description/meshes/mecanum_roller.stl" scale="0.001 0.001 0.001"/></geometry></collision><inertial><origin rpy="0 0 0" xyz="0 0 0"/><mass value="0.07"/><inertia ixx="9.426025000000001e-06" ixy="0.0" ixz="0.0" iyy="9.426025000000001e-06" iyz="0.0" izz="1.9166000000000004e-06"/></inertial></link><joint name="front_left_roller_7_joint" type="continuous"><origin rpy="0.587317345873812 -0.5013424269205712 0.09416051314509408" xyz="-0.021223810037314227 0.02122381003731422 0"/><parent link="front_left_mecanum_link"/><child link="front_left_roller_7"/><axis xyz="0.0 0.0 1.0"/></joint><link name="rear_right_mecanum_link"><inertial><origin rpy="0 1.5707963267948966 0" xyz="0 0 0"/><mass value="1.1360000000000001"/><inertia ixx="0.00042284766390000004" ixy="0.0" ixz="0.0" iyy="0.00042284766390000004" iyz="0.0" izz="0.0005117113278"/></inertial><visual><origin rpy="0 0 0" xyz="0 0 0"/><geometry><mesh filename="package://grr_description/meshes/mecanum_wheel_2.stl" scale="0.001 0.001 0.001"/></geometry><material name="orange"/></visual><collision><origin rpy="0 0 0" xyz="0 0 0"/><geometry><cylinder length="0.042" radius="0.030015"/></geometry></collision></link><joint name="rear_right_mecanum_joint" type="continuous"><origin rpy="0 -1.5707963267948966 0" xyz="0.10075 -0.10568 0"/><parent link="chassis_link"/><child link="rear_right_mecanum_link"/><axis xyz="0.0 0.0 1.0"/></joint><link name="rear_right_roller_0"><visual><origin rpy="0 0 0" xyz="0 0 0"/><geometry><mesh filename="package://grr_description/meshes/mecanum_roller.stl" scale="0.001 0.001 0.001"/></geometry><material name="grey"/></visual><!-- <collision>
        <origin xyz="0 0 0" rpy="0 0 0"/>
        <geometry>
          <sphere radius="${roller_middle_radius}"/>
        </geometry>
      </collision>
      <collision>
        <origin xyz="0 0 ${roller_length/5}" rpy="0 0 0"/>
        <geometry>
          <sphere radius="${roller_second_radius}"/>
        </geometry>
      </collision>
      <collision>
        <origin xyz="0 0 -${roller_length/5}" rpy="0 0 0"/>
        <geometry>
          <sphere radius="${roller_second_radius}"/>
        </geometry>
      </collision>
      <collision>
        <origin xyz="0 0 ${2 * roller_length/5}" rpy="0 0 0"/>
        <geometry>
          <sphere radius="${roller_third_radius}"/>
        </geometry>
      </collision>
      <collision>
        <origin xyz="0 0 -${2 * roller_length/5}" rpy="0 0 0"/>
        <geometry>
          <sphere radius="${roller_third_radius}"/>
        </geometry>
      </collision> --><collision><origin rpy="0 0 0" xyz="0 0 0"/><geometry><mesh filename="package://grr_description/meshes/mecanum_roller.stl" scale="0.001 0.001 0.001"/></geometry></collision><inertial><origin rpy="0 0 0" xyz="0 0 0"/><mass value="0.07"/><inertia ixx="9.426025000000001e-06" ixy="0.0" ixz="0.0" iyy="9.426025000000001e-06" iyz="0.0" izz="1.9166000000000004e-06"/></inertial></link><joint name="rear_right_roller_0_joint" type="continuous"><origin rpy="-0.0 -0.7853981633974483 0" xyz="0.0 0.030015 0"/><parent link="rear_right_mecanum_link"/><child link="rear_right_roller_0"/><axis xyz="0.0 0.0 1.0"/></joint><link name="rear_right_roller_1"><visual><origin rpy="0 0 0" xyz="0 0 0"/><geometry><mesh filename="package://grr_description/meshes/mecanum_roller.stl" scale="0.001 0.001 0.001"/></geometry><material name="grey"/></visual><!-- <collision>
        <origin xyz="0 0 0" rpy="0 0 0"/>
        <geometry>
          <sphere radius="${roller_middle_radius}"/>
        </geometry>
      </collision>
      <collision>
        <origin xyz="0 0 ${roller_length/5}" rpy="0 0 0"/>
        <geometry>
          <sphere radius="${roller_second_radius}"/>
        </geometry>
      </collision>
      <collision>
        <origin xyz="0 0 -${roller_length/5}" rpy="0 0 0"/>
        <geometry>
          <sphere radius="${roller_second_radius}"/>
        </geometry>
      </collision>
      <collision>
        <origin xyz="0 0 ${2 * roller_length/5}" rpy="0 0 0"/>
        <geometry>
          <sphere radius="${roller_third_radius}"/>
        </geometry>
      </collision>
      <collision>
        <origin xyz="0 0 -${2 * roller_length/5}" rpy="0 0 0"/>
        <geometry>
          <sphere radius="${roller_third_radius}"/>
        </geometry>
      </collision> --><collision><origin rpy="0 0 0" xyz="0 0 0"/><geometry><mesh filename="package://grr_description/meshes/mecanum_roller.stl" scale="0.001 0.001 0.001"/></geometry></collision><inertial><origin rpy="0 0 0" xyz="0 0 0"/><mass value="0.07"/><inertia ixx="9.426025000000001e-06" ixy="0.0" ixz="0.0" iyy="9.426025000000001e-06" iyz="0.0" izz="1.9166000000000004e-06"/></inertial></link><joint name="rear_right_roller_1_joint" type="continuous"><origin rpy="-0.5553603672697958 -0.5553603672697958 0" xyz="0.02122381003731422 0.021223810037314224 0"/><parent link="rear_right_mecanum_link"/><child link="rear_right_roller_1"/><axis xyz="0.0 0.0 1.0"/></joint><link name="rear_right_roller_2"><visual><origin rpy="0 0 0" xyz="0 0 0"/><geometry><mesh filename="package://grr_description/meshes/mecanum_roller.stl" scale="0.001 0.001 0.001"/></geometry><material name="grey"/></visual><!-- <collision>
        <origin xyz="0 0 0" rpy="0 0 0"/>
        <geometry>
          <sphere radius="${roller_middle_radius}"/>
        </geometry>
      </collision>
      <collision>
        <origin xyz="0 0 ${roller_length/5}" rpy="0 0 0"/>
        <geometry>
          <sphere radius="${roller_second_radius}"/>
        </geometry>
      </collision>
      <collision>
        <origin xyz="0 0 -${roller_length/5}" rpy="0 0 0"/>
        <geometry>
          <sphere radius="${roller_second_radius}"/>
        </geometry>
      </collision>
      <collision>
        <origin xyz="0 0 ${2 * roller_length/5}" rpy="0 0 0"/>
        <geometry>
          <sphere radius="${roller_third_radius}"/>
        </geometry>
      </collision>
      <collision>
        <origin xyz="0 0 -${2 * roller_length/5}" rpy="0 0 0"/>
        <geometry>
          <sphere radius="${roller_third_radius}"/>
        </geometry>
      </collision> --><collision><origin rpy="0 0 0" xyz="0 0 0"/><geometry><mesh filename="package://grr_description/meshes/mecanum_roller.stl" scale="0.001 0.001 0.001"/></geometry></collision><inertial><origin rpy="0 0 0" xyz="0 0 0"/><mass value="0.07"/><inertia ixx="9.426025000000001e-06" ixy="0.0" ixz="0.0" iyy="9.426025000000001e-06" iyz="0.0" izz="1.9166000000000004e-06"/></inertial></link><joint name="rear_right_roller_2_joint" type="continuous"><origin rpy="-0.7853981633974483 -4.8091767343044744e-17 0" xyz="0.030015 1.8378886838203904e-18 0"/><parent link="rear_right_mecanum_link"/><child link="rear_right_roller_2"/><axis xyz="0.0 0.0 1.0"/></joint><link name="rear_right_roller_3"><visual><origin rpy="0 0 0" xyz="0 0 0"/><geometry><mesh filename="package://grr_description/meshes/mecanum_roller.stl" scale="0.001 0.001 0.001"/></geometry><material name="grey"/></visual><!-- <collision>
        <origin xyz="0 0 0" rpy="0 0 0"/>
        <geometry>
          <sphere radius="${roller_middle_radius}"/>
        </geometry>
      </collision>
      <collision>
        <origin xyz="0 0 ${roller_length/5}" rpy="0 0 0"/>
        <geometry>
          <sphere radius="${roller_second_radius}"/>
        </geometry>
      </collision>
      <collision>
        <origin xyz="0 0 -${roller_length/5}" rpy="0 0 0"/>
        <geometry>
          <sphere radius="${roller_second_radius}"/>
        </geometry>
      </collision>
      <collision>
        <origin xyz="0 0 ${2 * roller_length/5}" rpy="0 0 0"/>
        <geometry>
          <sphere radius="${roller_third_radius}"/>
        </geometry>
      </collision>
      <collision>
        <origin xyz="0 0 -${2 * roller_length/5}" rpy="0 0 0"/>
        <geometry>
          <sphere radius="${roller_third_radius}"/>
        </geometry>
      </collision> --><collision><origin rpy="0 0 0" xyz="0 0 0"/><geometry><mesh filename="package://grr_description/meshes/mecanum_roller.stl" scale="0.001 0.001 0.001"/></geometry></collision><inertial><origin rpy="0 0 0" xyz="0 0 0"/><mass value="0.07"/><inertia ixx="9.426025000000001e-06" ixy="0.0" ixz="0.0" iyy="9.426025000000001e-06" iyz="0.0" izz="1.9166000000000004e-06"/></inertial></link><joint name="rear_right_roller_3_joint" type="continuous"><origin rpy="-0.5553603672697958 0.5553603672697958 0" xyz="0.021223810037314224 -0.02122381003731422 0"/><parent link="rear_right_mecanum_link"/><child link="rear_right_roller_3"/><axis xyz="0.0 0.0 1.0"/></joint><link name="rear_right_roller_4"><visual><origin rpy="0 0 0" xyz="0 0 0"/><geometry><mesh filename="package://grr_description/meshes/mecanum_roller.stl" scale="0.001 0.001 0.001"/></geometry><material name="grey"/></visual><!-- <collision>
        <origin xyz="0 0 0" rpy="0 0 0"/>
        <geometry>
          <sphere radius="${roller_middle_radius}"/>
        </geometry>
      </collision>
      <collision>
        <origin xyz="0 0 ${roller_length/5}" rpy="0 0 0"/>
        <geometry>
          <sphere radius="${roller_second_radius}"/>
        </geometry>
      </collision>
      <collision>
        <origin xyz="0 0 -${roller_length/5}" rpy="0 0 0"/>
        <geometry>
          <sphere radius="${roller_second_radius}"/>
        </geometry>
      </collision>
      <collision>
        <origin xyz="0 0 ${2 * roller_length/5}" rpy="0 0 0"/>
        <geometry>
          <sphere radius="${roller_third_radius}"/>
        </geometry>
      </collision>
      <collision>
        <origin xyz="0 0 -${2 * roller_length/5}" rpy="0 0 0"/>
        <geometry>
          <sphere radius="${roller_third_radius}"/>
        </geometry>
      </collision> --><collision><origin rpy="0 0 0" xyz="0 0 0"/><geometry><mesh filename="package://grr_description/meshes/mecanum_roller.stl" scale="0.001 0.001 0.001"/></geometry></collision><inertial><origin rpy="0 0 0" xyz="0 0 0"/><mass value="0.07"/><inertia ixx="9.426025000000001e-06" ixy="0.0" ixz="0.0" iyy="9.426025000000001e-06" iyz="0.0" izz="1.9166000000000004e-06"/></inertial></link><joint name="rear_right_roller_4_joint" type="continuous"><origin rpy="-9.618353468608949e-17 0.7853981633974483 0" xyz="3.675777367640781e-18 -0.030015 0"/><parent link="rear_right_mecanum_link"/><child link="rear_right_roller_4"/><axis xyz="0.0 0.0 1.0"/></joint><link name="rear_right_roller_5"><visual><origin rpy="0 0 0" xyz="0 0 0"/><geometry><mesh filename="package://grr_description/meshes/mecanum_roller.stl" scale="0.001 0.001 0.001"/></geometry><material name="grey"/></visual><!-- <collision>
        <origin xyz="0 0 0" rpy="0 0 0"/>
        <geometry>
          <sphere radius="${roller_middle_radius}"/>
        </geometry>
      </collision>
      <collision>
        <origin xyz="0 0 ${roller_length/5}" rpy="0 0 0"/>
        <geometry>
          <sphere radius="${roller_second_radius}"/>
        </geometry>
      </collision>
      <collision>
        <origin xyz="0 0 -${roller_length/5}" rpy="0 0 0"/>
        <geometry>
          <sphere radius="${roller_second_radius}"/>
        </geometry>
      </collision>
      <collision>
        <origin xyz="0 0 ${2 * roller_length/5}" rpy="0 0 0"/>
        <geometry>
          <sphere radius="${roller_third_radius}"/>
        </geometry>
      </collision>
      <collision>
        <origin xyz="0 0 -${2 * roller_length/5}" rpy="0 0 0"/>
        <geometry>
          <sphere radius="${roller_third_radius}"/>
        </geometry>
      </collision> --><collision><origin rpy="0 0 0" xyz="0 0 0"/><geometry><mesh filename="package://grr_description/meshes/mecanum_roller.stl" scale="0.001 0.001 0.001"/></geometry></collision><inertial><origin rpy="0 0 0" xyz="0 0 0"/><mass value="0.07"/><inertia ixx="9.426025000000001e-06" ixy="0.0" ixz="0.0" iyy="9.426025000000001e-06" iyz="0.0" izz="1.9166000000000004e-06"/></inertial></link><joint name="rear_right_roller_5_joint" type="continuous"><origin rpy="0.5553603672697958 0.5553603672697959 0" xyz="-0.02122381003731422 -0.021223810037314227 0"/><parent link="rear_right_mecanum_link"/><child link="rear_right_roller_5"/><axis xyz="0.0 0.0 1.0"/></joint><link name="rear_right_roller_6"><visual><origin rpy="0 0 0" xyz="0 0 0"/><geometry><mesh filename="package://grr_description/meshes/mecanum_roller.stl" scale="0.001 0.001 0.001"/></geometry><material name="grey"/></visual><!-- <collision>
        <origin xyz="0 0 0" rpy="0 0 0"/>
        <geometry>
          <sphere radius="${roller_middle_radius}"/>
        </geometry>
      </collision>
      <collision>
        <origin xyz="0 0 ${roller_length/5}" rpy="0 0 0"/>
        <geometry>
          <sphere radius="${roller_second_radius}"/>
        </geometry>
      </collision>
      <collision>
        <origin xyz="0 0 -${roller_length/5}" rpy="0 0 0"/>
        <geometry>
          <sphere radius="${roller_second_radius}"/>
        </geometry>
      </collision>
      <collision>
        <origin xyz="0 0 ${2 * roller_length/5}" rpy="0 0 0"/>
        <geometry>
          <sphere radius="${roller_third_radius}"/>
        </geometry>
      </collision>
      <collision>
        <origin xyz="0 0 -${2 * roller_length/5}" rpy="0 0 0"/>
        <geometry>
          <sphere radius="${roller_third_radius}"/>
        </geometry>
      </collision> --><collision><origin rpy="0 0 0" xyz="0 0 0"/><geometry><mesh filename="package://grr_description/meshes/mecanum_roller.stl" scale="0.001 0.001 0.001"/></geometry></collision><inertial><origin rpy="0 0 0" xyz="0 0 0"/><mass value="0.07"/><inertia ixx="9.426025000000001e-06" ixy="0.0" ixz="0.0" iyy="9.426025000000001e-06" iyz="0.0" izz="1.9166000000000004e-06"/></inertial></link><joint name="rear_right_roller_6_joint" type="continuous"><origin rpy="0.7853981633974483 1.4427530202913423e-16 0" xyz="-0.030015 -5.513666051461171e-18 0"/><parent link="rear_right_mecanum_link"/><child link="rear_right_roller_6"/><axis xyz="0.0 0.0 1.0"/></joint><link name="rear_right_roller_7"><visual><origin rpy="0 0 0" xyz="0 0 0"/><geometry><mesh filename="package://grr_description/meshes/mecanum_roller.stl" scale="0.001 0.001 0.001"/></geometry><material name="grey"/></visual><!-- <collision>
        <origin xyz="0 0 0" rpy="0 0 0"/>
        <geometry>
          <sphere radius="${roller_middle_radius}"/>
        </geometry>
      </collision>
      <collision>
        <origin xyz="0 0 ${roller_length/5}" rpy="0 0 0"/>
        <geometry>
          <sphere radius="${roller_second_radius}"/>
        </geometry>
      </collision>
      <collision>
        <origin xyz="0 0 -${roller_length/5}" rpy="0 0 0"/>
        <geometry>
          <sphere radius="${roller_second_radius}"/>
        </geometry>
      </collision>
      <collision>
        <origin xyz="0 0 ${2 * roller_length/5}" rpy="0 0 0"/>
        <geometry>
          <sphere radius="${roller_third_radius}"/>
        </geometry>
      </collision>
      <collision>
        <origin xyz="0 0 -${2 * roller_length/5}" rpy="0 0 0"/>
        <geometry>
          <sphere radius="${roller_third_radius}"/>
        </geometry>
      </collision> --><collision><origin rpy="0 0 0" xyz="0 0 0"/><geometry><mesh filename="package://grr_description/meshes/mecanum_roller.stl" scale="0.001 0.001 0.001"/></geometry></collision><inertial><origin rpy="0 0 0" xyz="0 0 0"/><mass value="0.07"/><inertia ixx="9.426025000000001e-06" ixy="0.0" ixz="0.0" iyy="9.426025000000001e-06" iyz="0.0" izz="1.9166000000000004e-06"/></inertial></link><joint name="rear_right_roller_7_joint" type="continuous"><origin rpy="0.587317345873812 -0.5013424269205712 0.09416051314509408" xyz="-0.021223810037314227 0.02122381003731422 0"/><parent link="rear_right_mecanum_link"/><child link="rear_right_roller_7"/><axis xyz="0.0 0.0 1.0"/></joint><link name="small_package_grabber_link"><inertial><origin rpy="0 0 0" xyz="0 0 -0.015"/><mass value="2.45"/><inertia ixx="0.025954687500000004" ixy="0.0" ixz="0.0" iyy="0.0103359375" iyz="0.0" izz="0.028848750000000003"/></inertial><visual><origin rpy="0 0 0" xyz="0 0 0"/><geometry><mesh filename="package://grr_description/meshes/small_package_grabber.stl" scale="0.001 0.001 0.001"/></geometry><material name="red"/></visual><collision><origin rpy="0 0 0" xyz="0 0 0"/><geometry><box size="0.18 0.33 0.0675"/></geometry></collision></link><joint name="small_package_grabber_joint" type="fixed"><parent link="chassis_link"/><child link="small_package_grabber_link"/><origin xyz="-0.03 0.1 0.03"/></joint><link name="small_package_grabber_roller_1_link"><inertial><origin rpy="0 0 0" xyz="0 0 0"/><mass value="2.45"/><inertia ixx="0.04207875" ixy="0.0" ixz="0.0" iyy="0.04207875" iyz="0.0" izz="0.03969"/></inertial><visual><origin rpy="1.5707963267948966 0 0" xyz="0 0 0"/><geometry><mesh filename="package://grr_description/meshes/small_package_grabber_roller.stl" scale="0.001 0.001 0.001"/></geometry><material name="yellow"/></visual><collision><origin rpy="0 0 0" xyz="0 0 0"/><geometry><cylinder length="0.33" radius="0.18"/></geometry></collision></link><joint name="small_package_grabber_roller_1_joint" type="continuous"><origin rpy="0 0 0" xyz="0.035 0.03 -0.04"/><parent link="small_package_grabber_link"/><child link="small_package_grabber_roller_1_link"/><axis xyz="1 0 0"/></joint><link name="small_package_grabber_roller_2_link"><inertial><origin rpy="0 1.5707963267948966 0" xyz="0 0 0"/><mass value="2.45"/><inertia ixx="0.04207875" ixy="0.0" ixz="0.0" iyy="0.04207875" iyz="0.0" izz="0.03969"/></inertial><visual><origin rpy="0 0 0" xyz="0 0 0"/><geometry><mesh filename="package://grr_description/meshes/small_package_grabber_roller.stl" scale="0.001 0.001 0.001"/></geometry><material name="yellow"/></visual><collision><origin rpy="0 0 0" xyz="0 0 0"/><geometry><cylinder length="0.33" radius="0.18"/></geometry></collision></link><joint name="small_package_grabber_roller_2_joint" type="continuous"><origin rpy="0 0 0" xyz="0.035 0.03 0.02"/><parent link="small_package_grabber_link"/><child link="small_package_grabber_roller_2_link"/><axis xyz="1 0 0"/><mimic joint="small_package_grabber_roller_1_joint" multiplier="1" offset="0"/></joint><link name="small_package_grabber_roller_3_link"><inertial><origin rpy="0 1.5707963267948966 0" xyz="0 0 0"/><mass value="2.45"/><inertia ixx="0.04207875" ixy="0.0" ixz="0.0" iyy="0.04207875" iyz="0.0" izz="0.03969"/></inertial><visual><origin rpy="0 0 0" xyz="0 0 0"/><geometry><mesh filename="package://grr_description/meshes/small_package_grabber_roller.stl" scale="0.001 0.001 0.001"/></geometry><material name="yellow"/></visual><collision><origin rpy="0 0 0" xyz="0 0 0"/><geometry><cylinder length="0.33" radius="0.18"/></geometry></collision></link><joint name="small_package_grabber_roller_3_joint" type="continuous"><origin rpy="0 0 0" xyz="0.035 -0.02 -0.055"/><parent link="small_package_grabber_link"/><child link="small_package_grabber_roller_3_link"/><axis xyz="1 0 0"/><mimic joint="small_package_grabber_roller_1_joint" multiplier="-1" offset="0"/></joint><link name="small_package_grabber_roller_4_link"><inertial><origin rpy="0 1.5707963267948966 0" xyz="0 0 0"/><mass value="2.45"/><inertia ixx="0.04207875" ixy="0.0" ixz="0.0" iyy="0.04207875" iyz="0.0" izz="0.03969"/></inertial><visual><origin rpy="0 0 0" xyz="0 0 0"/><geometry><mesh filename="package://grr_description/meshes/small_package_grabber_roller.stl" scale="0.001 0.001 0.001"/></geometry><material name="yellow"/></visual><collision><origin rpy="0 0 0" xyz="0 0 0"/><geometry><cylinder length="0.33" radius="0.18"/></geometry></collision></link><joint name="small_package_grabber_roller_4_joint" type="continuous"><origin rpy="0 0 0" xyz="0.035 -0.03 0.02"/><!-- -0.03 0.1 0.03 --><parent link="small_package_grabber_link"/><child link="small_package_grabber_roller_4_link"/><axis xyz="1 0 0"/><mimic joint="small_package_grabber_roller_1_joint" multiplier="-1" offset="0"/></joint><link name="grr_brain_link"><inertial><origin rpy="0 0 0" xyz="0 0 -0.015"/><mass value="2.45"/><inertia ixx="0.025954687500000004" ixy="0.0" ixz="0.0" iyy="0.0103359375" iyz="0.0" izz="0.028848750000000003"/></inertial><visual><origin rpy="0 0 0" xyz="-0.03 0.1 0.03"/><geometry><mesh filename="package://grr_description/meshes/brain.stl" scale="0.001 0.001 0.001"/></geometry><material name="red"/></visual><collision><origin rpy="0 0 0" xyz="0 0 0"/><geometry><box size="0.18 0.33 0.0675"/></geometry></collision></link><joint name="grr_brain_joint" type="fixed"><parent link="chassis_link"/><child link="grr_brain_link"/><origin xyz="-0.09 -0.14 0.07"/></joint><link name="small_package_sweeper_servo_link"><inertial><origin rpy="0 0 0" xyz="0 0 -0.015"/><mass value="2.45"/><inertia ixx="0.025954687500000004" ixy="0.0" ixz="0.0" iyy="0.0103359375" iyz="0.0" izz="0.028848750000000003"/></inertial><visual><origin rpy="0 0 0" xyz="0 0 0"/><geometry><mesh filename="package://grr_description/meshes/small_package_sweeper_servo.stl" scale="0.001 0.001 0.001"/></geometry><material name="yellow"/></visual><collision><origin rpy="0 0 0" xyz="0 0 0"/><geometry><box size="0.18 0.33 0.0675"/></geometry></collision></link><joint name="small_package_servo_joint" type="fixed"><origin rpy="0 0 0" xyz="-0.035 0.22 0.025"/><parent link="grr_brain_link"/><child link="small_package_sweeper_servo_link"/></joint><link name="small_package_sweeper_link"><inertial><origin rpy="0 0 0" xyz="0 0 0"/><mass value="2.45"/><inertia ixx="0.023565937500000002" ixy="0.0" ixz="0.0" iyy="0.023565937500000002" iyz="0.0" izz="0.03969"/></inertial><visual><origin rpy="0 0 0" xyz="0 0 0"/><geometry><mesh filename="package://grr_description/meshes/small_package_sweeper.stl" scale="0.001 0.001 0.001"/></geometry><material name="yellow"/></visual><collision><origin rpy="0 0 0" xyz="0 0 0"/><geometry><cylinder length="0.135" radius="0.18"/></geometry></collision></link><joint name="small_package_sweeper_joint" type="revolute"><origin rpy="0 0 0" xyz="-0.01 0.06 -0.06"/><parent link="small_package_sweeper_servo_link"/><child link="small_package_sweeper_link"/><axis xyz="1 0 0"/><limit effort="100" lower="-1.57" upper="1.57" velocity="0.5"/></joint><link name="small_package_sweeper_roller_link"><inertial><origin rpy="0 0 0" xyz="0 0 0"/><mass value="2.45"/><inertia ixx="0.023565937500000002" ixy="0.0" ixz="0.0" iyy="0.023565937500000002" iyz="0.0" izz="0.03969"/></inertial><visual><origin rpy="0 0 0" xyz="0 0 0"/><geometry><mesh filename="package://grr_description/meshes/small_package_sweeper_roller.stl" scale="0.001 0.001 0.001"/></geometry><material name="yellow"/></visual><collision><origin rpy="0 0 0" xyz="0 0 0"/><geometry><cylinder length="0.135" radius="0.18"/></geometry></collision></link><joint name="small_package_sweeper_roller_joint" type="continuous"><origin rpy="0 0 0" xyz="0 0.05 -0.06"/><parent link="small_package_sweeper_link"/><child link="small_package_sweeper_roller_link"/><axis xyz="0 0 1"/></joint><link name="camera_stand_link"><inertial><origin rpy="0 0 0" xyz="0 0 -0.015"/><mass value="2.45"/><inertia ixx="0.025954687500000004" ixy="0.0" ixz="0.0" iyy="0.0103359375" iyz="0.0" izz="0.028848750000000003"/></inertial><visual><origin rpy="0 0 0" xyz="0 0 0"/><geometry><mesh filename="package://grr_description/meshes/camera_stand.stl" scale="0.001 0.001 0.001"/></geometry><material name="green"/></visual><collision><origin rpy="0 0 0" xyz="0 0 0"/><geometry><box size="0.18 0.33 0.0675"/></geometry></collision></link><joint name="camera_stand_joint" type="fixed"><parent link="chassis_link"/><child link="camera_stand_link"/><origin xyz="0.0 -0.08 0.145"/></joint><link name="camera_1_link"><inertial><origin rpy="0 0 0" xyz="0 0 -0.015"/><mass value="2.45"/><inertia ixx="0.025954687500000004" ixy="0.0" ixz="0.0" iyy="0.0103359375" iyz="0.0" izz="0.028848750000000003"/></inertial><visual><origin rpy="0 0 -1.5707963267948966" xyz="0 0 0"/><geometry><mesh filename="package://grr_description/meshes/camera.stl" scale="0.001 0.001 0.001"/></geometry><material name="black"/></visual><collision><origin rpy="0 0 0" xyz="0 0 0"/><geometry><box size="0.18 0.33 0.0675"/></geometry></collision></link><joint name="camera_1_joint" type="fixed"><parent link="camera_stand_link"/><child link="camera_1_link"/><origin rpy="0 0 0" xyz="0.02 -0.05 0.09"/></joint><link name="camera_2_link"><inertial><origin rpy="0 0 0" xyz="0 0 -0.015"/><mass value="2.45"/><inertia ixx="0.025954687500000004" ixy="0.0" ixz="0.0" iyy="0.0103359375" iyz="0.0" izz="0.028848750000000003"/></inertial><visual><origin rpy="0 0 0" xyz="0 0 0"/><geometry><mesh filename="package://grr_description/meshes/camera.stl" scale="0.001 0.001 0.001"/></geometry><material name="black"/></visual><collision><origin rpy="0 0 0" xyz="0 0 0"/><geometry><box size="0.18 0.33 0.0675"/></geometry></collision></link><joint name="camera_2_joint" type="fixed"><parent link="camera_stand_link"/><child link="camera_2_link"/><origin rpy="0 0 0" xyz="0.045 0.04 0.07"/></joint><link name="bridge_latch_link"><inertial><origin rpy="0 0 0" xyz="0 0 -0.015"/><mass value="0.135"/><inertia ixx="0.0015896250000000001" ixy="0.0" ixz="0.0" iyy="0.06875325000000002" iyz="0.0" izz="0.06789262500000001"/></inertial><visual><origin rpy="0 0 0" xyz="0 0 0"/><geometry><mesh filename="package://grr_description/meshes/bridge_latch.stl" scale="0.001 0.001 0.001"/></geometry><material name="blue"/></visual><collision><origin rpy="0 0 0" xyz="0 0 0"/><geometry><box size="2.45 0.18 0.165"/></geometry></collision></link><joint name="bridge_latch_joint" type="fixed"><parent link="camera_stand_link"/><child link="bridge_latch_link"/><origin rpy="0 0 0" xyz="0.0 0.0 0.0"/></joint><link name="bridge_holder_link"><inertial><origin rpy="0 0 0" xyz="0 0 -0.015"/><mass value="0.135"/><inertia ixx="0.0015896250000000001" ixy="0.0" ixz="0.0" iyy="0.0014301562500000002" iyz="0.0" izz="0.00056953125"/></inertial><visual><origin rpy="0 0 0" xyz="0 -0.1 0"/><geometry><mesh filename="package://grr_description/meshes/bridge_holder.stl" scale="0.001 0.001 0.001"/></geometry><material name="yellow"/></visual><collision><origin rpy="0 0 0" xyz="0 0 0"/><geometry><box size="0.135 0.18 0.165"/></geometry></collision></link><joint name="bridge_holder_joint" type="fixed"><parent link="chassis_link"/><child link="bridge_holder_link"/><origin rpy="0 0 0" xyz="0.0 -0.04 0.03"/></joint><link name="color_sensor_link"><inertial><origin rpy="0 0 0" xyz="0 0 -0.015"/><mass value="2.45"/><inertia ixx="0.025954687500000004" ixy="0.0" ixz="0.0" iyy="0.0103359375" iyz="0.0" izz="0.028848750000000003"/></inertial><visual><origin rpy="1.5707963267948966 0 0" xyz="0 0 0"/><geometry><mesh filename="package://grr_description/meshes/color_sensor.stl" scale="0.001 0.001 0.001"/></geometry><material name="red"/></visual><collision><origin rpy="0 0 0" xyz="0 0 0"/><geometry><box size="0.18 0.33 0.0675"/></geometry></collision></link><joint name="color_sensor_joint" type="fixed"><parent link="bridge_holder_link"/><child link="color_sensor_link"/><origin rpy="0 0 0" xyz="0.0 -0.11 0.04"/></joint><!-- <xacro:lidar
    radius="${lidar_radius}"
    length="${lidar_length}"
    pos_y="${lidar_joint_pos_y}"
  /> --><!-- <xacro:zed_camera parent="chassis_link">
    <origin xyz="0 0.15 0" rpy="0 0 ${pi/2}" />
  </xacro:zed_camera> --></robot>
